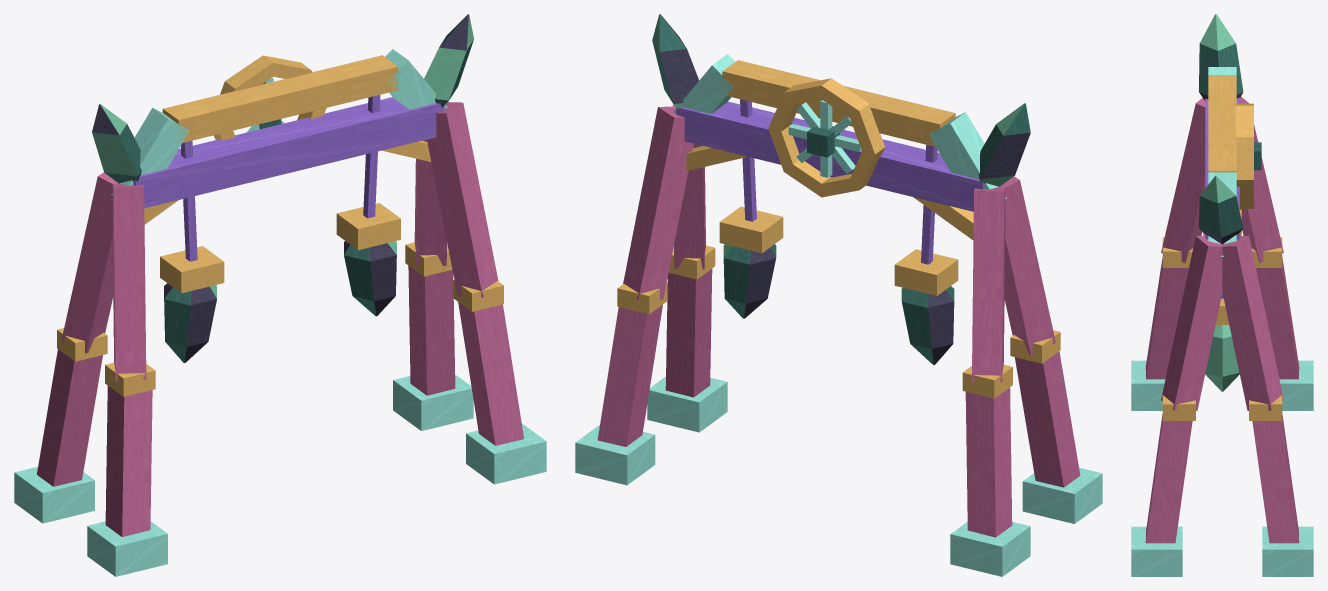
Rendered from crystal_windlass.obj.
3 renders of one model, left to right at view 1: azimuth 30°, elevation 25°; view 2: azimuth 150°, elevation 25°; view 3: azimuth 270°, elevation 25°, orthographic. The views are drawn at different scales.
Size of the model in its own units: 6.83 by 6.55 by 2.78.
